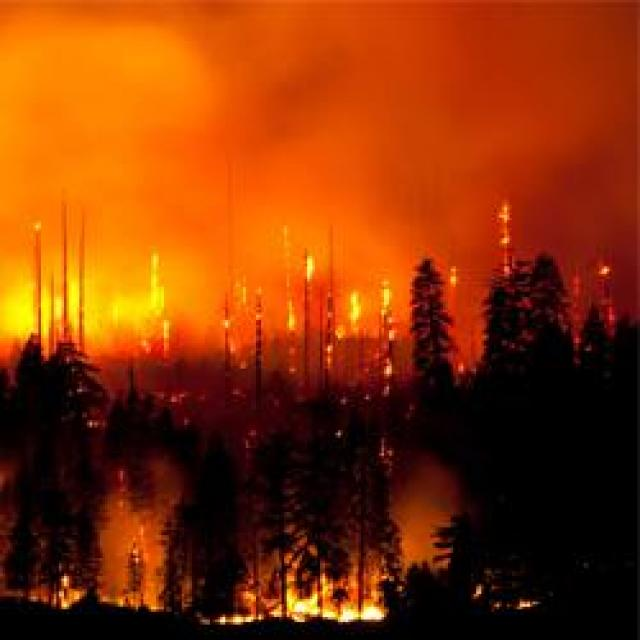fire: (13, 205, 473, 364), (209, 552, 403, 630)
